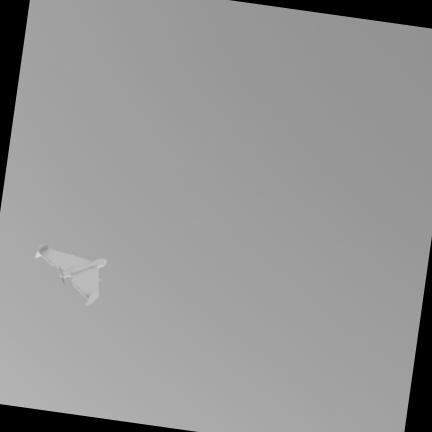Shahed: (34, 245, 104, 305)
